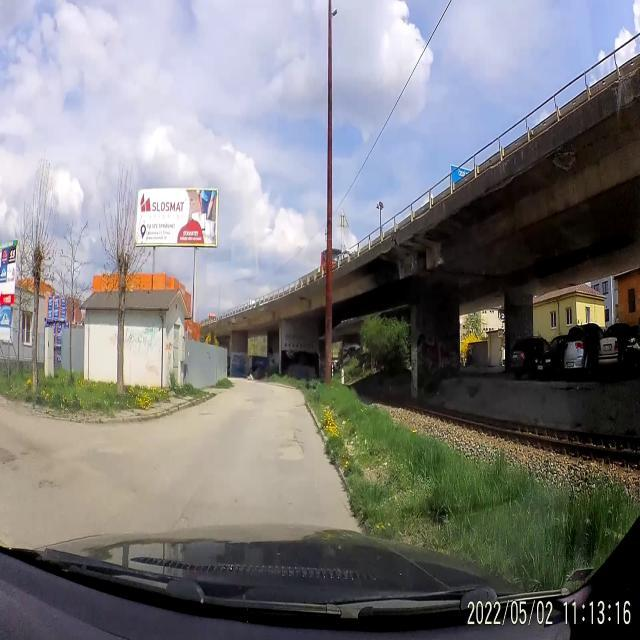Pothole: (276, 426, 314, 466), (40, 463, 62, 499), (188, 402, 218, 424), (242, 394, 268, 412)
